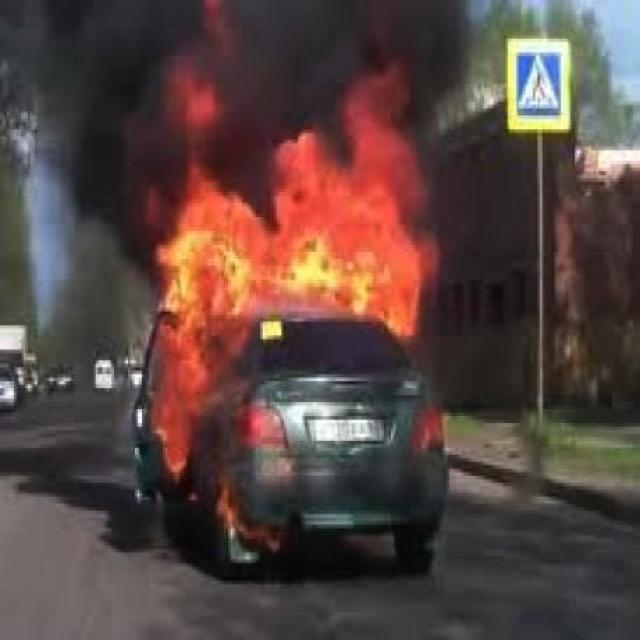Fire: (168, 74, 426, 499)
Smoke: (6, 4, 170, 262), (168, 5, 490, 86)
